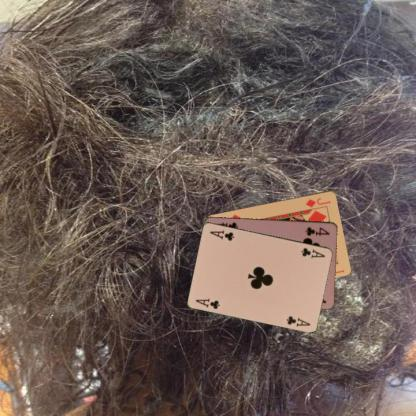4c: (302, 224, 332, 236)
Ac: (192, 296, 222, 310), (299, 245, 326, 259)
Jd: (303, 195, 332, 208)
